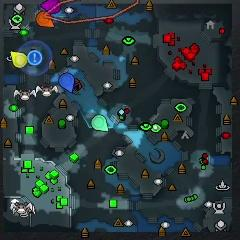Other: (27, 50, 42, 66)
p1: (58, 73, 75, 92)
p2: (92, 114, 108, 132)
p3: (40, 0, 61, 14)
p4: (10, 50, 28, 68)
p5: (36, 10, 55, 28)
